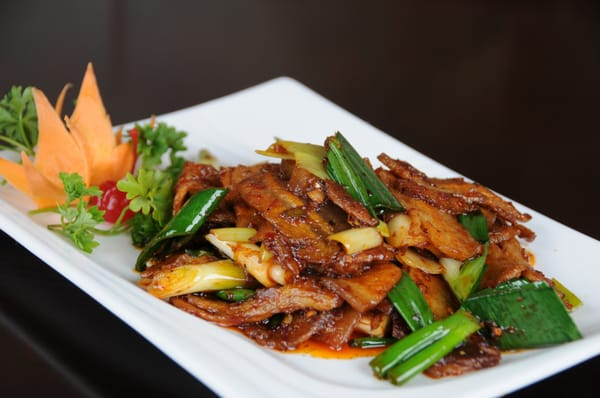pizza: (0, 61, 135, 211)
